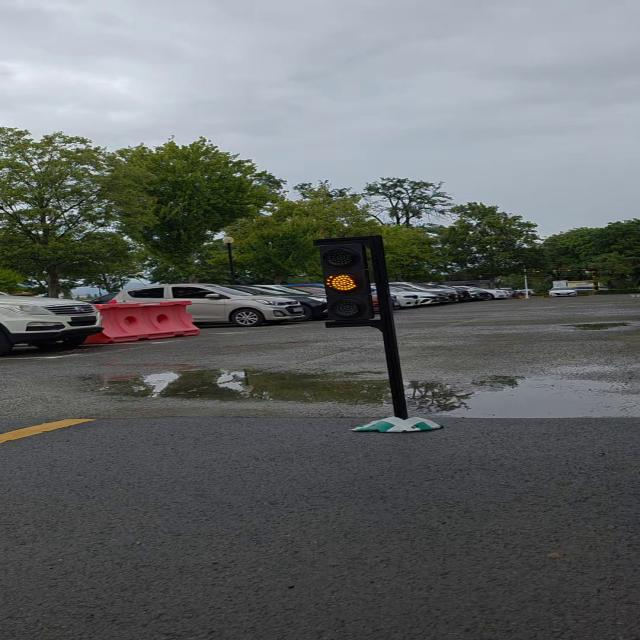yellow: (316, 234, 384, 328)
